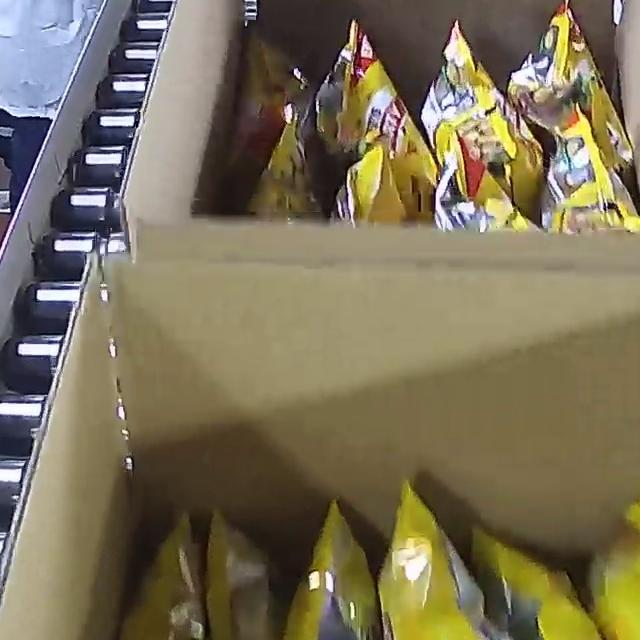salted: (87, 425, 640, 640), (237, 0, 640, 232)
